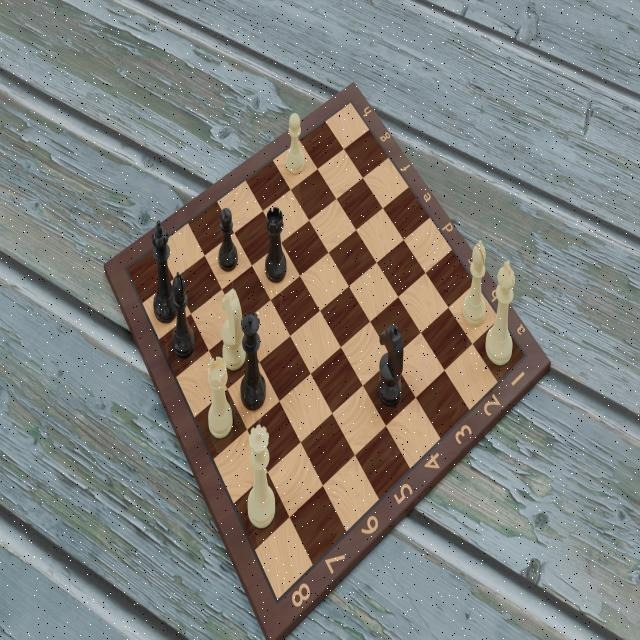black-bishop: (169, 271, 195, 359)
black-king: (150, 218, 180, 321)
black-knight: (376, 320, 404, 407)
black-pawn: (216, 205, 240, 272)
black-queen: (240, 310, 267, 412)
black-rook: (263, 205, 289, 283)
white-bishop: (461, 237, 486, 328)
white-king: (484, 258, 515, 366)
white-knight: (221, 285, 247, 371)
white-pawn: (284, 111, 306, 177)
white-queen: (246, 423, 276, 529)
white-rook: (206, 356, 234, 440)
